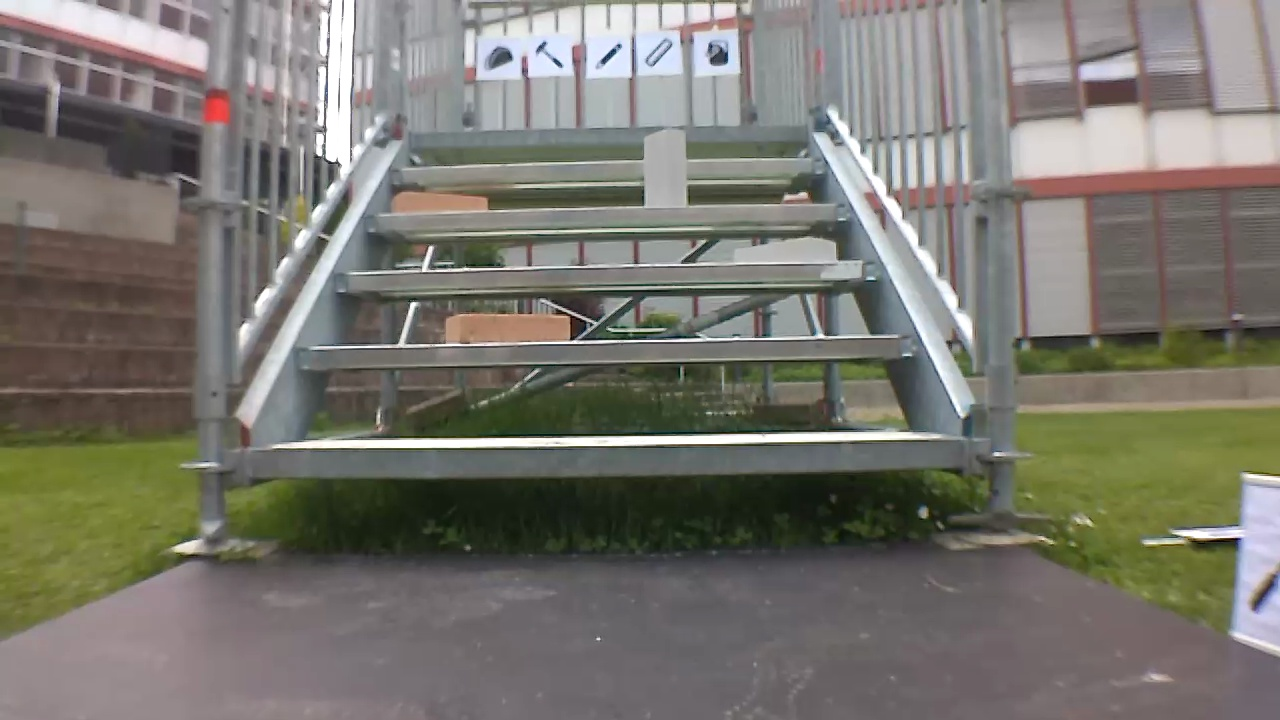brick: (445, 313, 568, 344), (643, 129, 687, 208), (735, 237, 834, 261), (391, 192, 485, 212)
bucket: (698, 34, 731, 71)
edge: (248, 437, 962, 477), (295, 335, 921, 366), (332, 261, 882, 291), (367, 204, 848, 230), (391, 158, 825, 181), (410, 126, 804, 143)
hammer: (528, 36, 564, 72)
pencil: (589, 36, 624, 73)
ruler: (641, 34, 677, 71)
stairs: (177, 3, 1034, 542)
steps: (241, 121, 967, 483)
taco: (479, 41, 514, 76)
